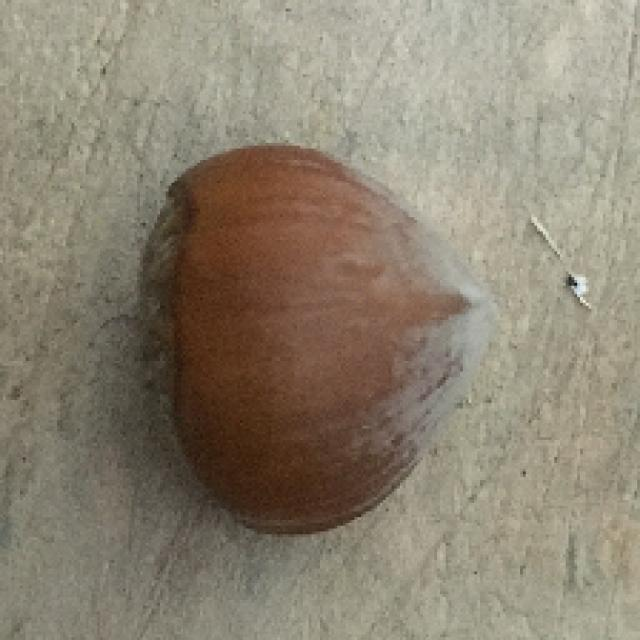qualityHazelnut: (133, 134, 501, 543)
